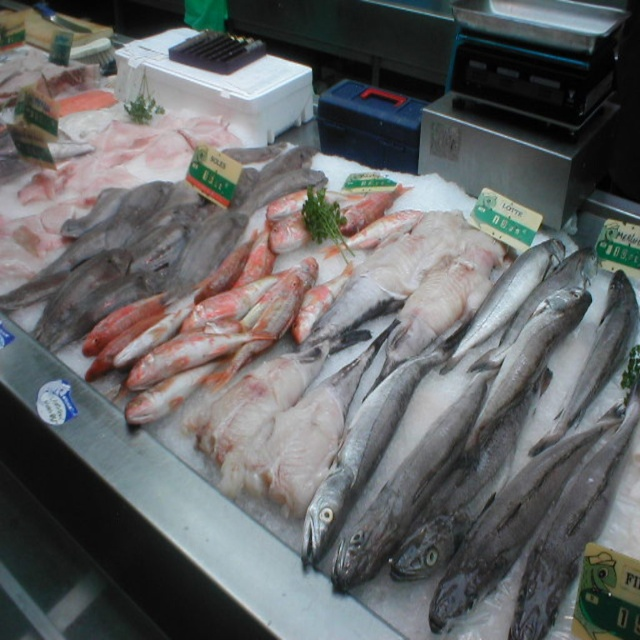Fish: (0, 142, 640, 639)
